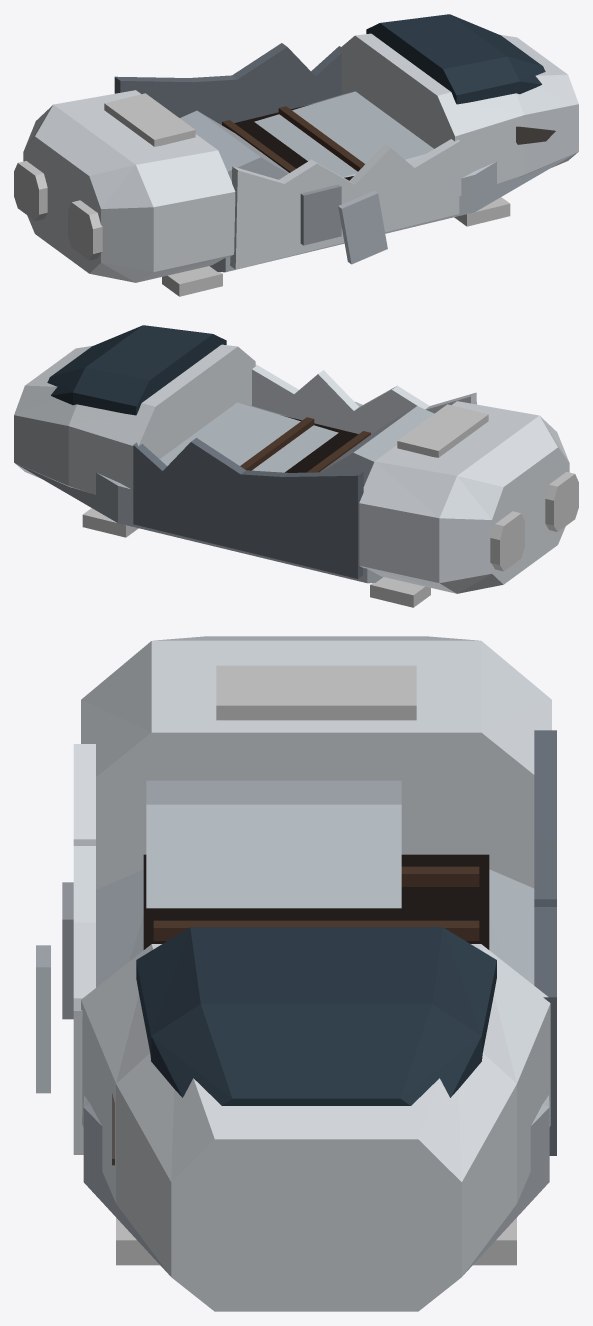
Rendered from shuttle_crashed.obj.
The picture shows the model from 3 angles, top to bottom: view 1: azimuth 30°, elevation 25°; view 2: azimuth 150°, elevation 25°; view 3: azimuth 270°, elevation 25°; orthographic projection. The views are drawn at different scales.
Parts seen in each view (by area): view 1: shuttle_crashed; view 2: shuttle_crashed; view 3: shuttle_crashed.
Boxes of the visible parts, x1,y1,x2,y2 form: shuttle_crashed: [14, 14, 578, 296]; shuttle_crashed: [14, 325, 578, 607]; shuttle_crashed: [36, 636, 556, 1311].
Bounding box in the file's own units: 4.51 × 1.28 × 2.08.
